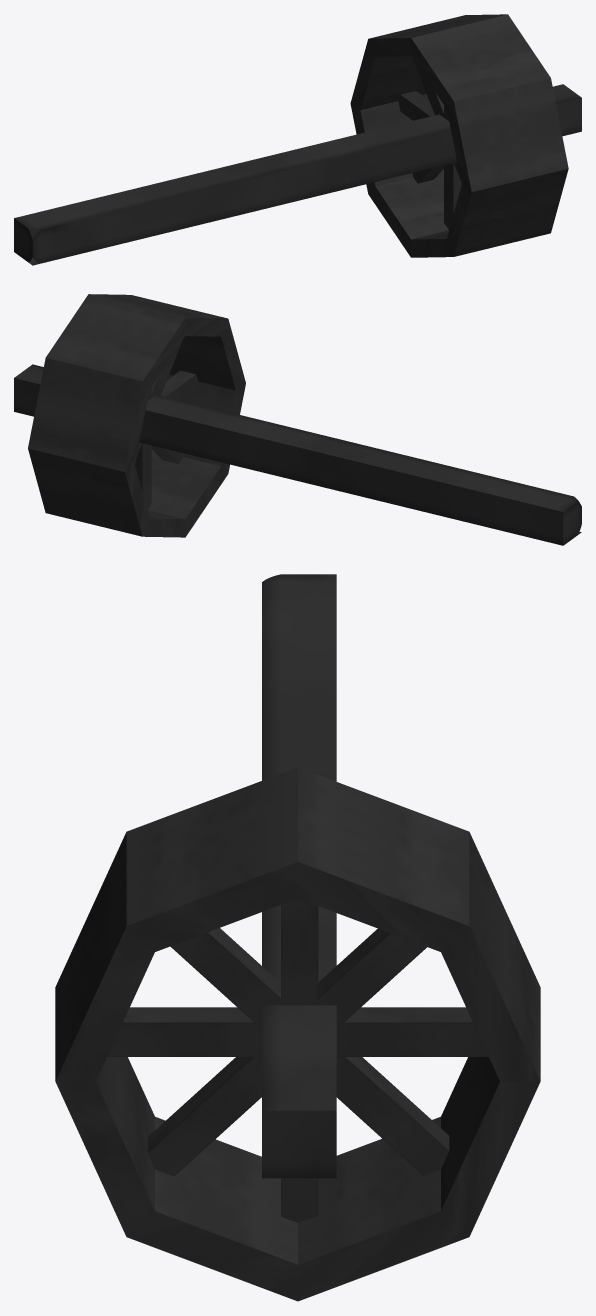
Rendered from grist_mill_animation.obj.
3 renders of one model, top to bottom at view 1: azimuth 30°, elevation 25°; view 2: azimuth 150°, elevation 25°; view 3: azimuth 270°, elevation 25°, orthographic. The views are drawn at different scales.
Parts seen in each view (by area): view 1: rod; view 2: rod; view 3: rod.
Boxes of the visible parts, left/top/right/bottom form: rod: left=14, top=14, right=581, bottom=265; rod: left=14, top=294, right=581, bottom=545; rod: left=55, top=574, right=540, bottom=1301.
Bounding box in the file's own units: 2.12 × 0.8125 × 0.8125.
